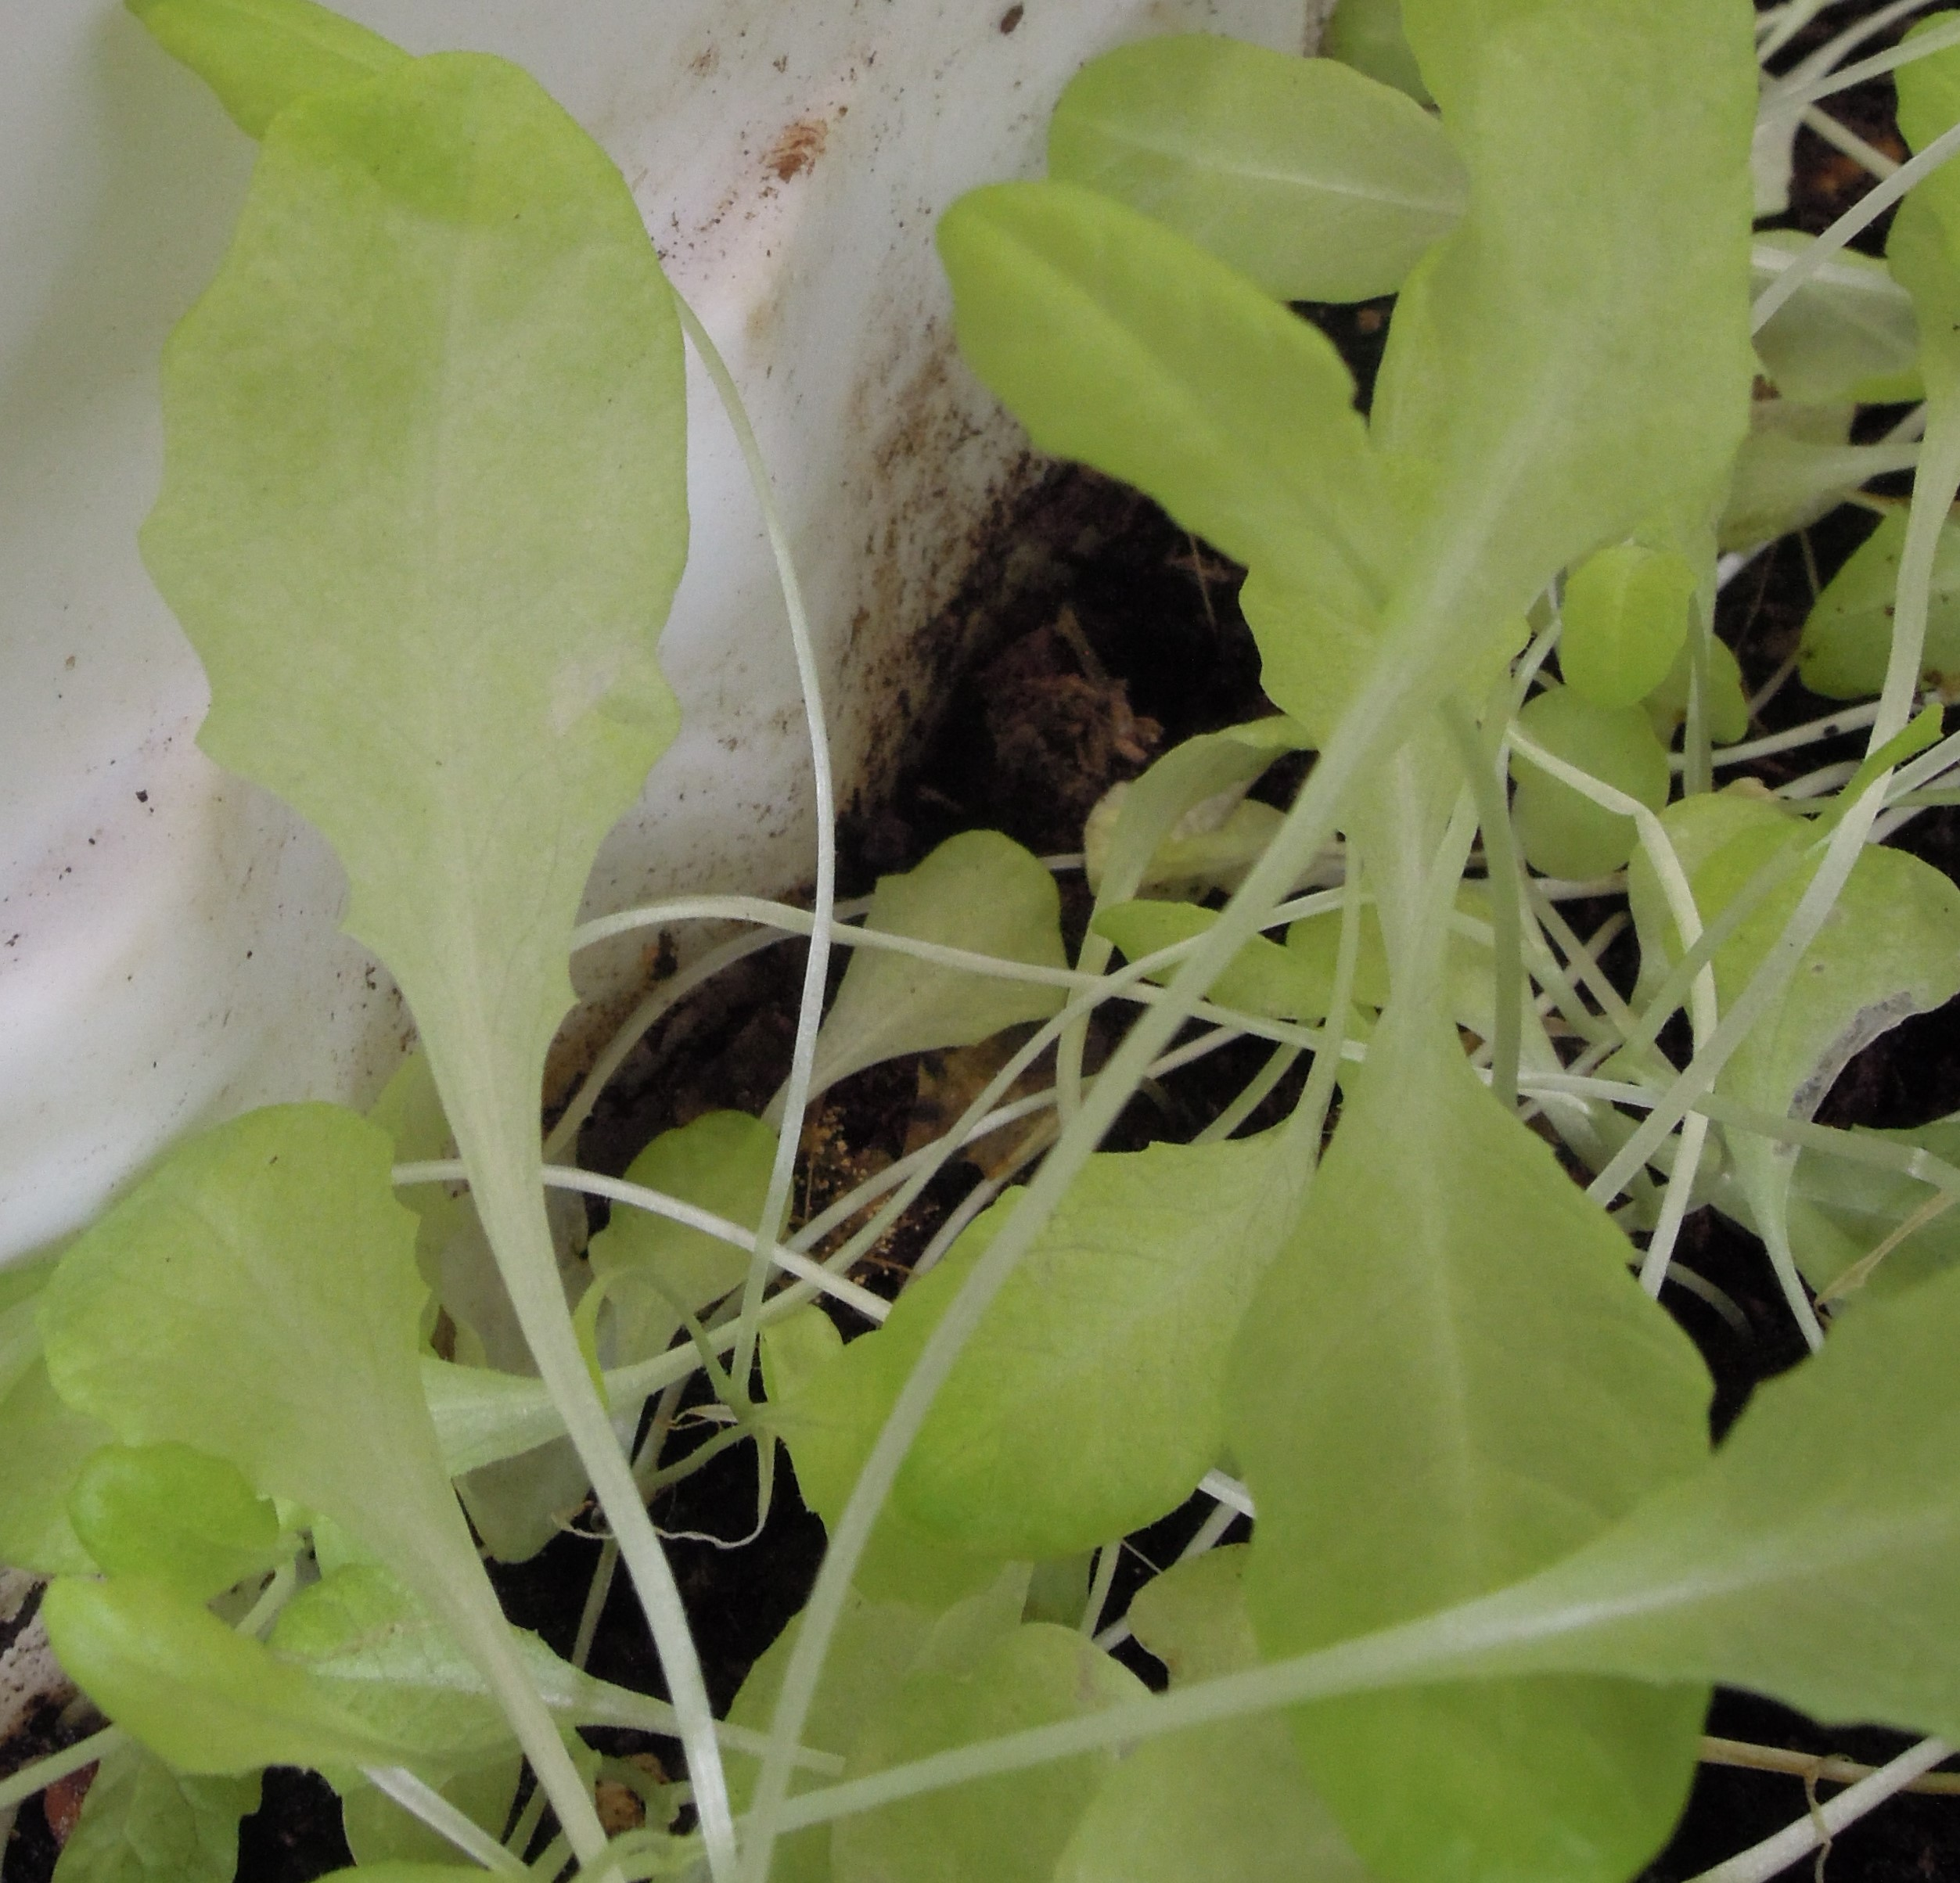weeek6: (19, 23, 1955, 1872)
